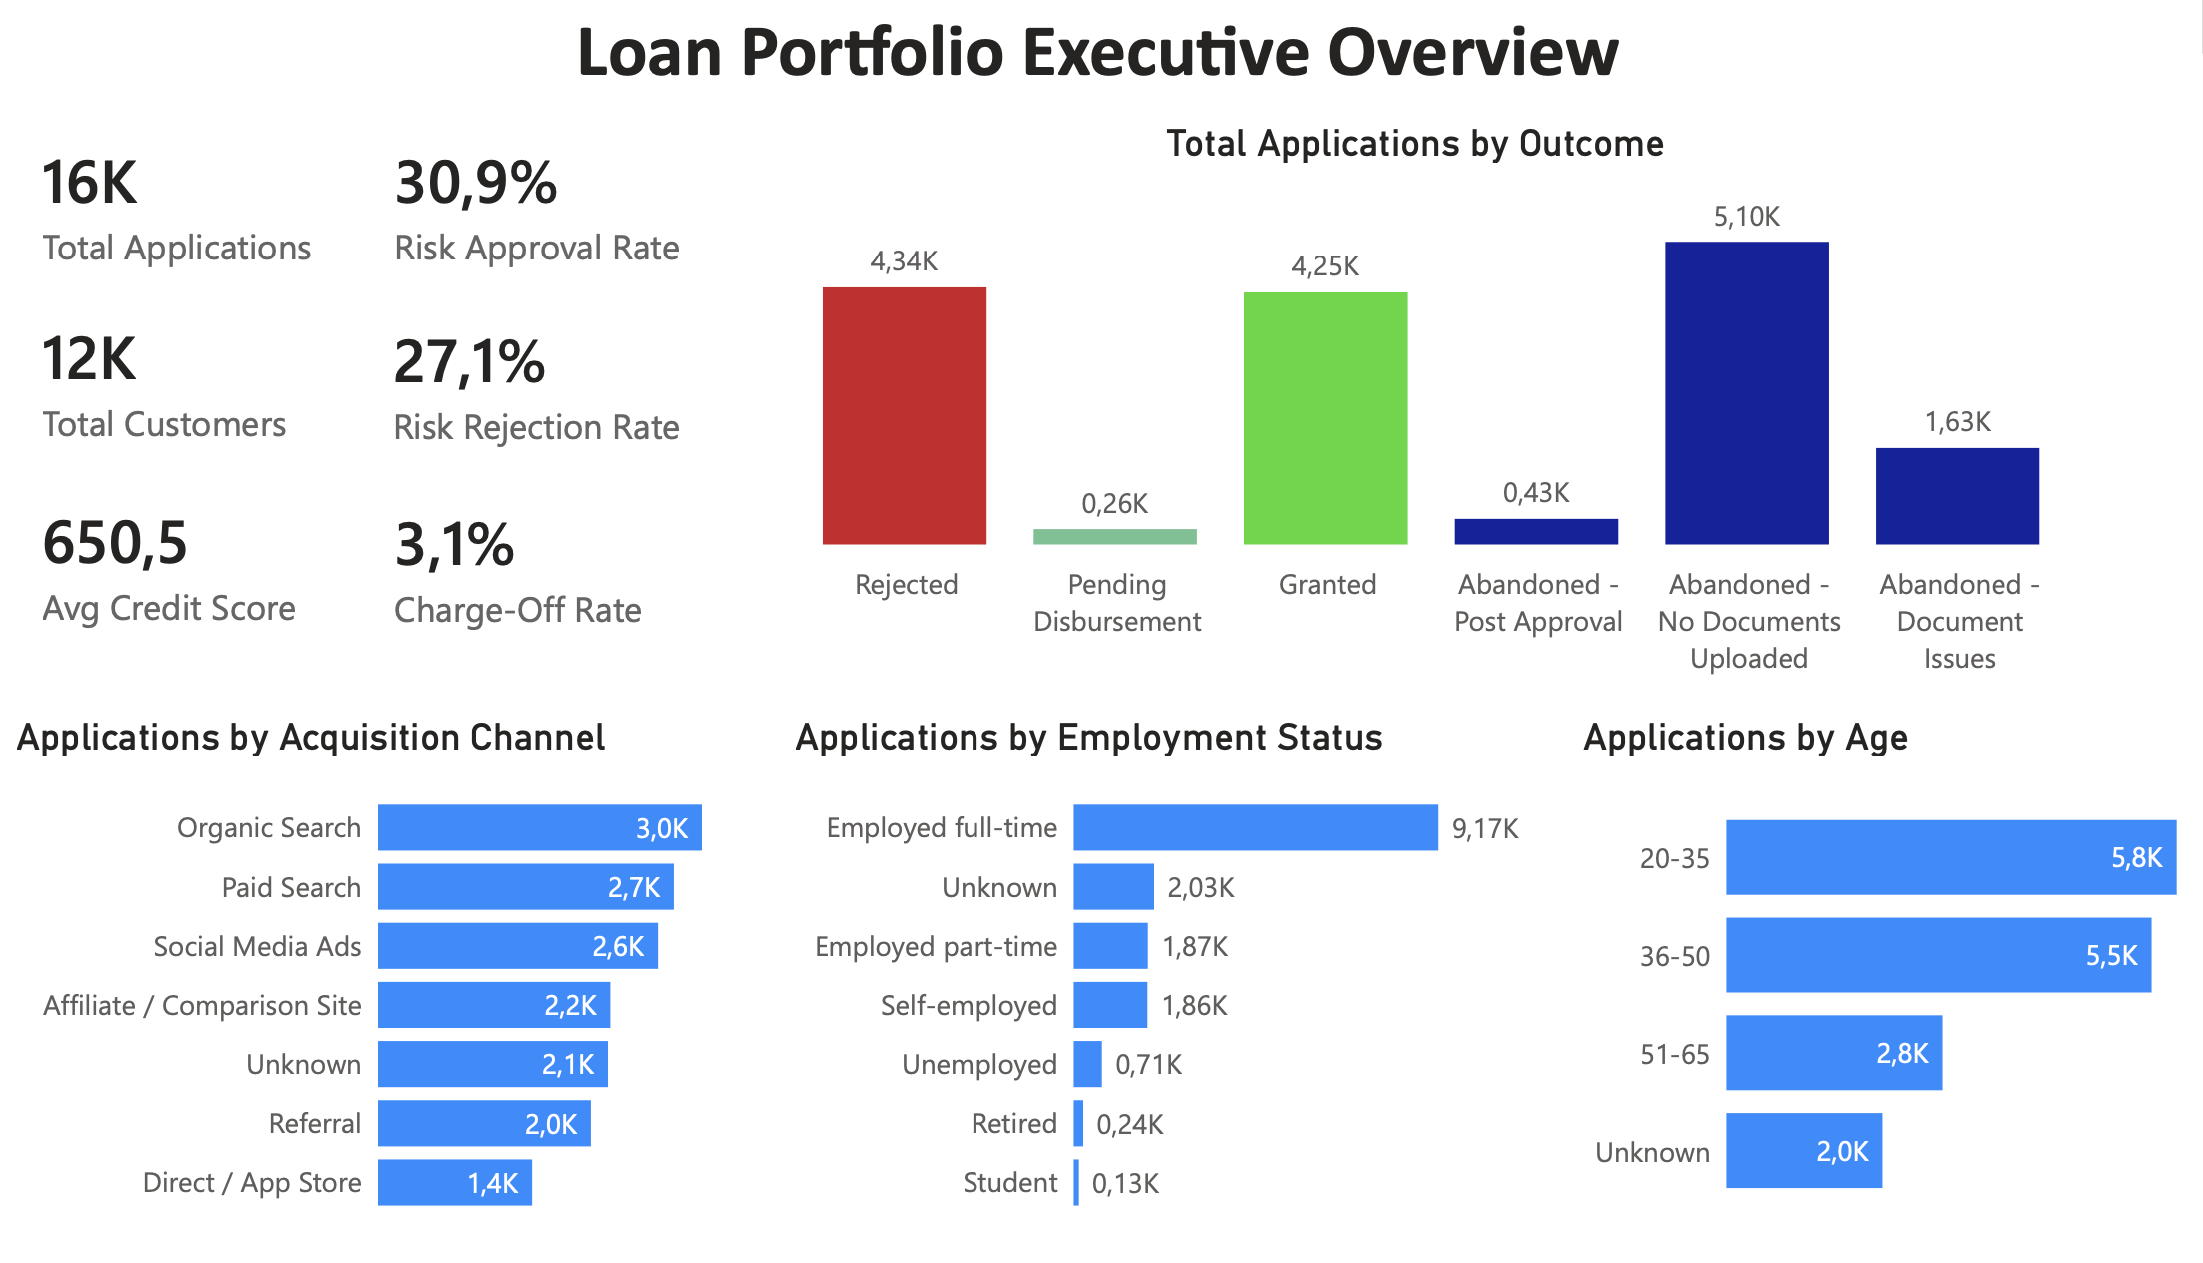

The dashboard page shown, as its layout file describes it:
{"tool":"powerbi","page":{"name":"Executive Overview","canvas":[1280,720],"ordinal":0},"visuals":[{"type":"cardVisual","fields":{"Data":["loan_applications_updated.Total Applications"]},"box":[0,62.1,227.1,117.7],"z":0},{"type":"cardVisual","fields":{"Data":["users_clean.Total Customers"]},"box":[0,163.4,217.3,119.3],"z":1000},{"type":"cardVisual","fields":{"Data":["loan_outcomes_clean.Risk Approval Rate"]},"box":[204.3,62.1,225.5,117.7],"z":2000},{"type":"cardVisual","fields":{"Data":["loan_outcomes_clean.Risk Rejection Rate"]},"box":[202.6,161.8,227.1,125.8],"z":3000},{"type":"cardVisual","fields":{"Data":["loan_outcomes_clean.Charge-Off Rate"]},"box":[204.3,269.6,212.4,120.9],"z":4000},{"type":"cardVisual","fields":{"Data":["loan_applications_updated.Avg Credit Score"]},"box":[0,269.6,228.8,119.3],"z":5000},{"type":"clusteredColumnChart","title":"Total Applications by Outcome","fields":{"Category":["loan_applications_updated.outcome"],"Y":["loan_applications_updated.Total Applications"]},"box":[406.6,72.8,835.4,329.1],"z":6000},{"type":"barChart","title":"Applications by Acquisition Channel","fields":{"Y":["loan_applications_updated.Total Applications"],"Category":["loan_applications_updated.acquisition_channel"]},"box":[9.1,417.1,406.4,303.3],"z":7000},{"type":"textbox","box":[220.7,0,838.9,73.1],"z":8000},{"type":"clusteredBarChart","title":"Applications by Employment Status","fields":{"Category":["users_clean.employment_status"],"Y":["loan_applications_updated.Total Applications"]},"box":[459.5,417.1,429.2,303.3],"z":9000},{"type":"clusteredBarChart","title":"Applications by Age","fields":{"Y":["loan_applications_updated.Total Applications"],"Category":["users_clean.age_range"]},"box":[916,417.1,364,303.3],"z":10000}]}

Visuals, with their boxes in screenshot pixels (x1, y1, x2, y2), scaled from the page's 1280x720 canvas onto the 2203x1263 screenshot:
cardVisual - loan_applications_updated.Total Applications: select_region(0, 109, 391, 315)
cardVisual - users_clean.Total Customers: select_region(0, 287, 374, 496)
cardVisual - loan_outcomes_clean.Risk Approval Rate: select_region(352, 109, 740, 315)
cardVisual - loan_outcomes_clean.Risk Rejection Rate: select_region(349, 284, 740, 504)
cardVisual - loan_outcomes_clean.Charge-Off Rate: select_region(352, 473, 717, 685)
cardVisual - loan_applications_updated.Avg Credit Score: select_region(0, 473, 394, 682)
"Total Applications by Outcome" clusteredColumnChart: select_region(700, 128, 2138, 705)
"Applications by Acquisition Channel" barChart: select_region(16, 732, 715, 1262)
textbox: select_region(380, 0, 1824, 128)
"Applications by Employment Status" clusteredBarChart: select_region(791, 732, 1530, 1262)
"Applications by Age" clusteredBarChart: select_region(1577, 732, 2202, 1262)
